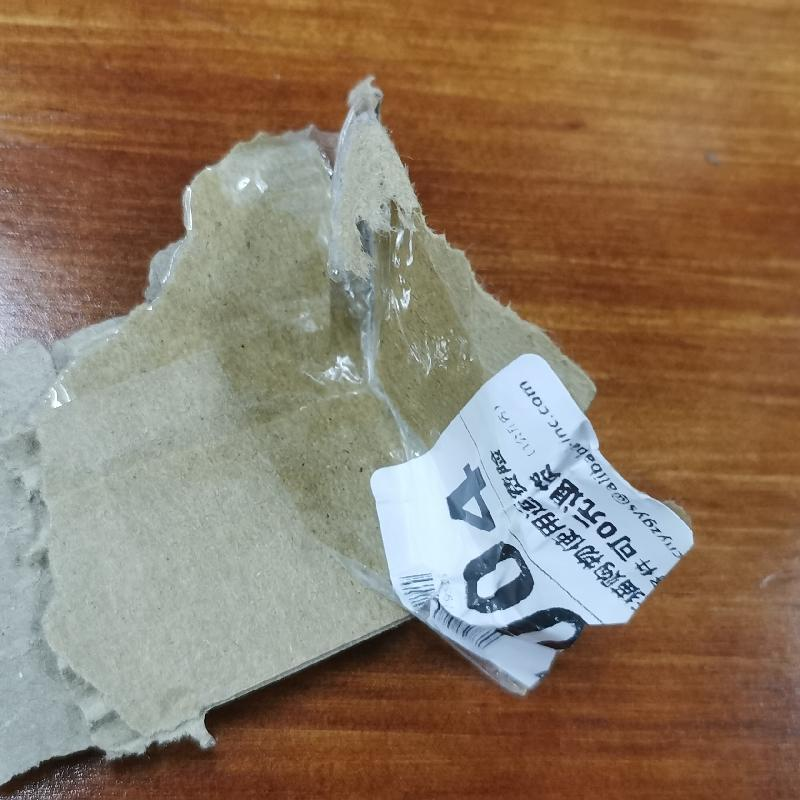boxes: (10, 78, 667, 761)
